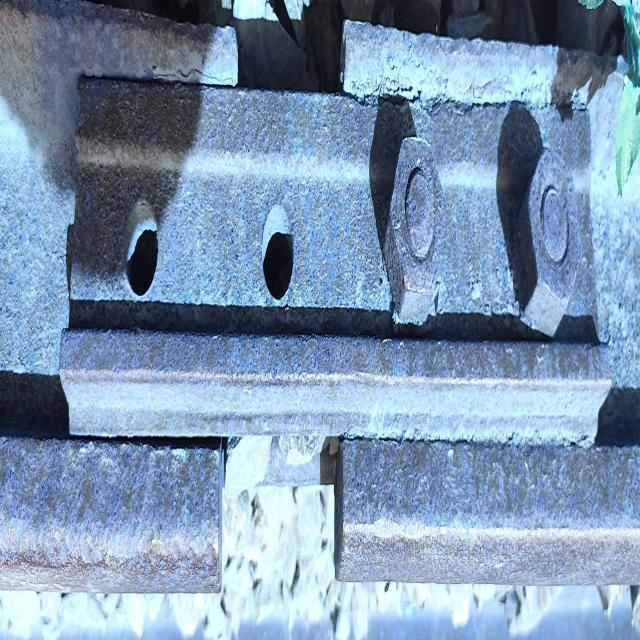broken_rail_high: (202, 400, 360, 606)
railway_join_bar_defects_high: (63, 73, 356, 588)
